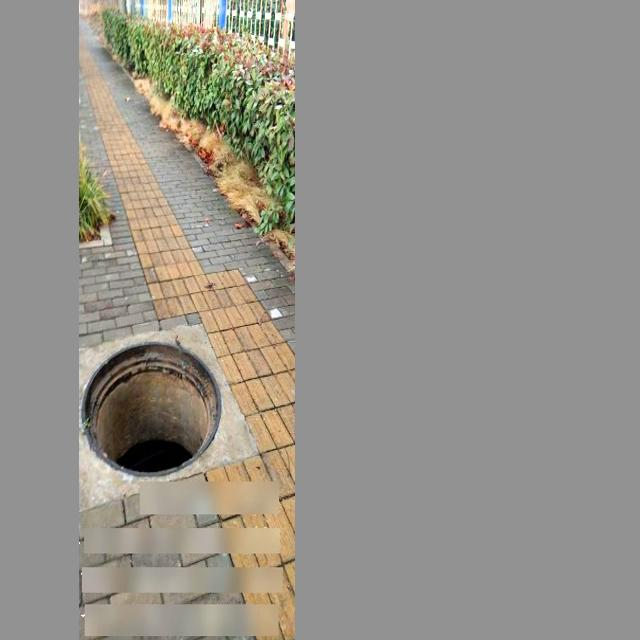lose: (79, 338, 221, 478)
